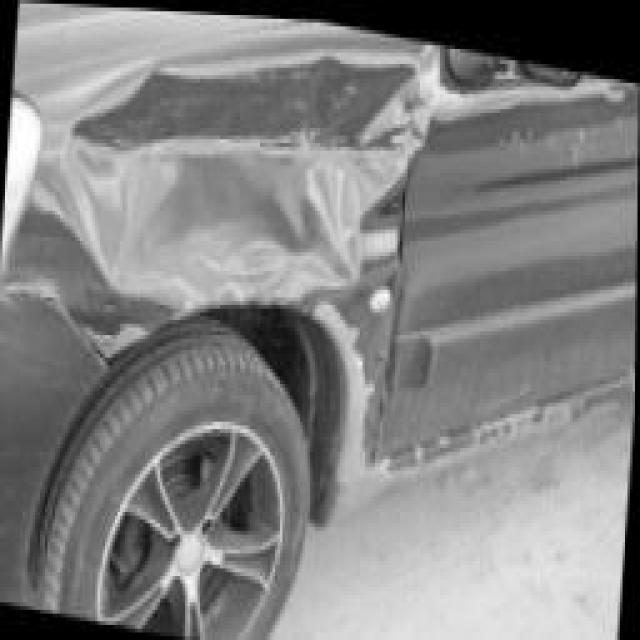Fender: (38, 4, 396, 361)
